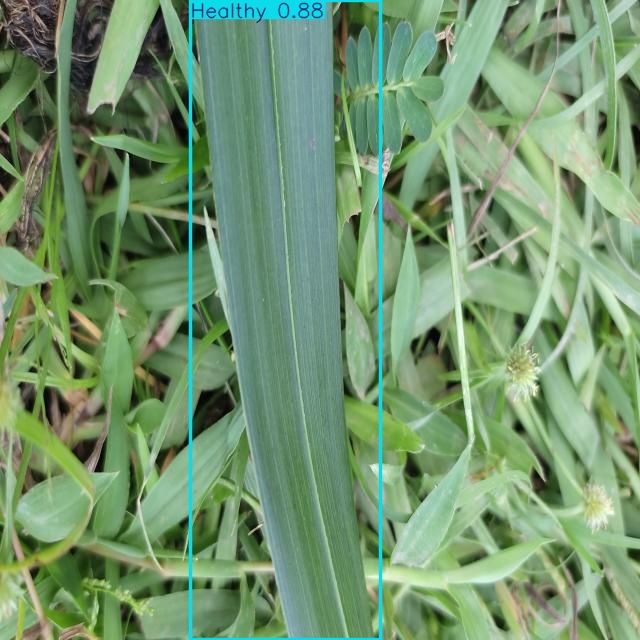Healthy: (190, 0, 380, 640)
